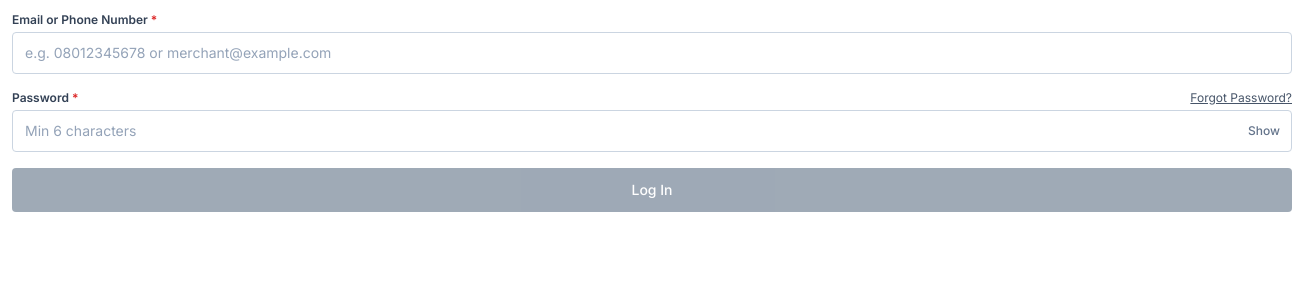
Test: Vendor Login Flow Components › Login Submission & Storage › handles 401 incorrect credentials error with retry option
The image size is (1304, 287).
Type "wrong@user.ng" into the field labelled "Email or Phone Number *".
click(652, 53); type("wrong@user.ng")  # box x1=12 y1=32 x2=1292 y2=74
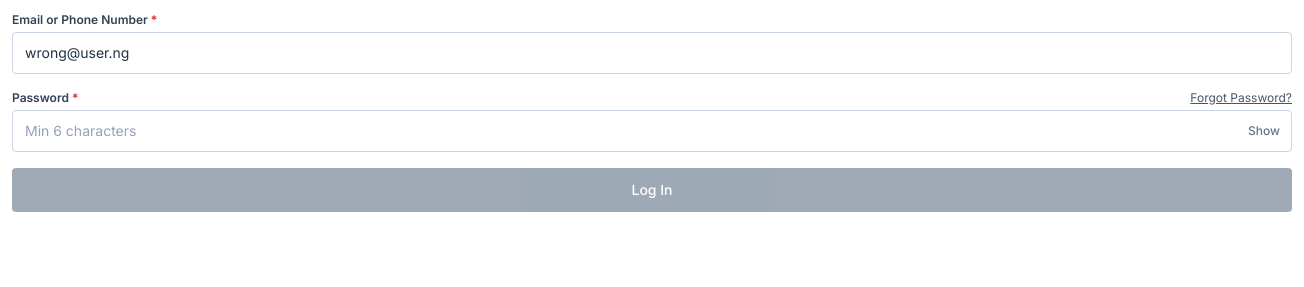
Type "wrongpass" into the password field labelled "Password *".
click(652, 131); type("wrongpass")  # box x1=12 y1=110 x2=1292 y2=152
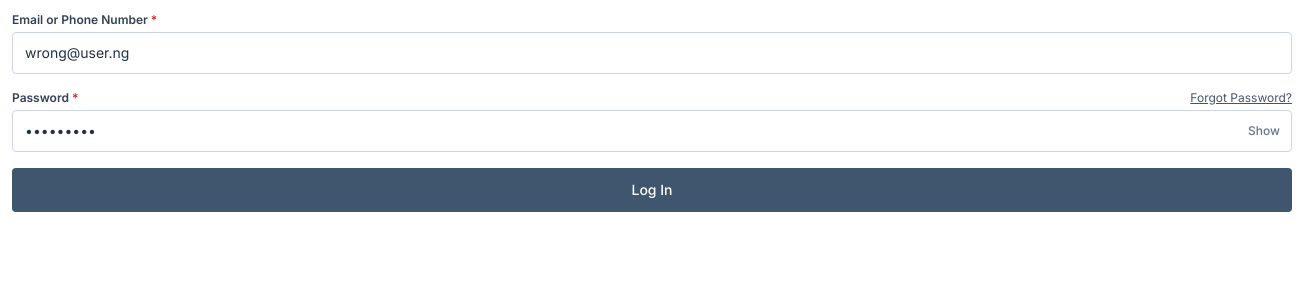
Click the button with aria-label "Login".
click(652, 190)  # box x1=12 y1=168 x2=1292 y2=212
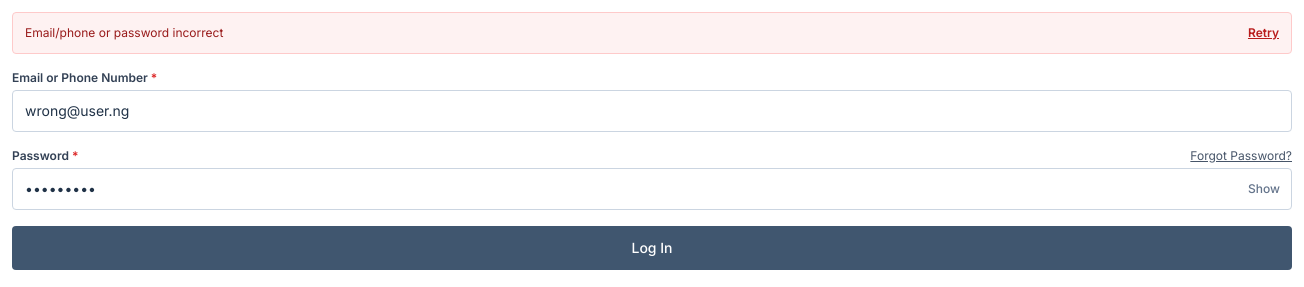
Now the text "Email/phone or password incorrect" is shown, box x1=25 y1=25 x2=223 y2=41
Now the button "Retry" is shown, box x1=1248 y1=25 x2=1279 y2=41
